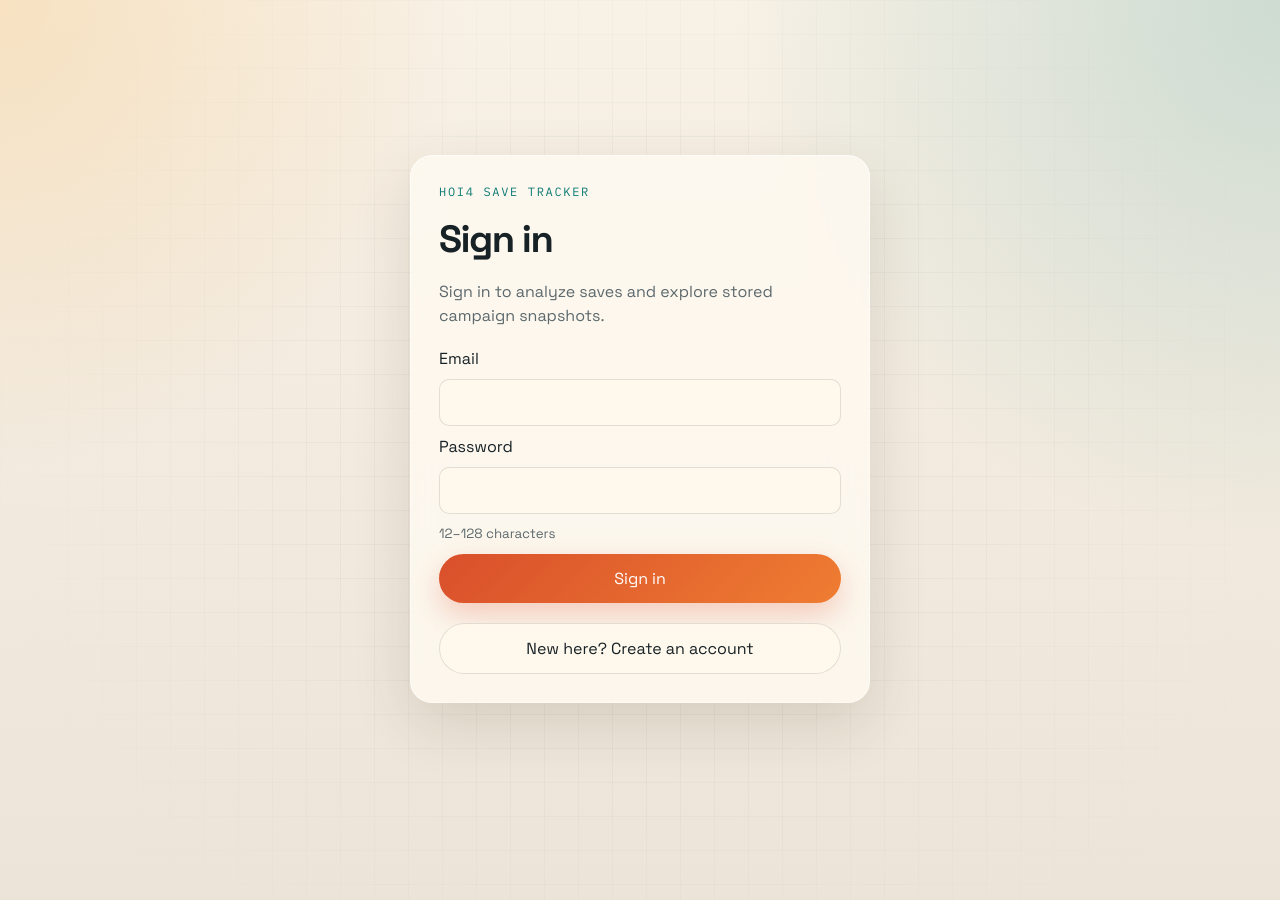
Test case: alpha admission and retry guidance › en signup denial is invitation guidance, not CSRF failure or a secret
Click the button "New here? Create an account" at (640, 649), box [439,623,841,674]
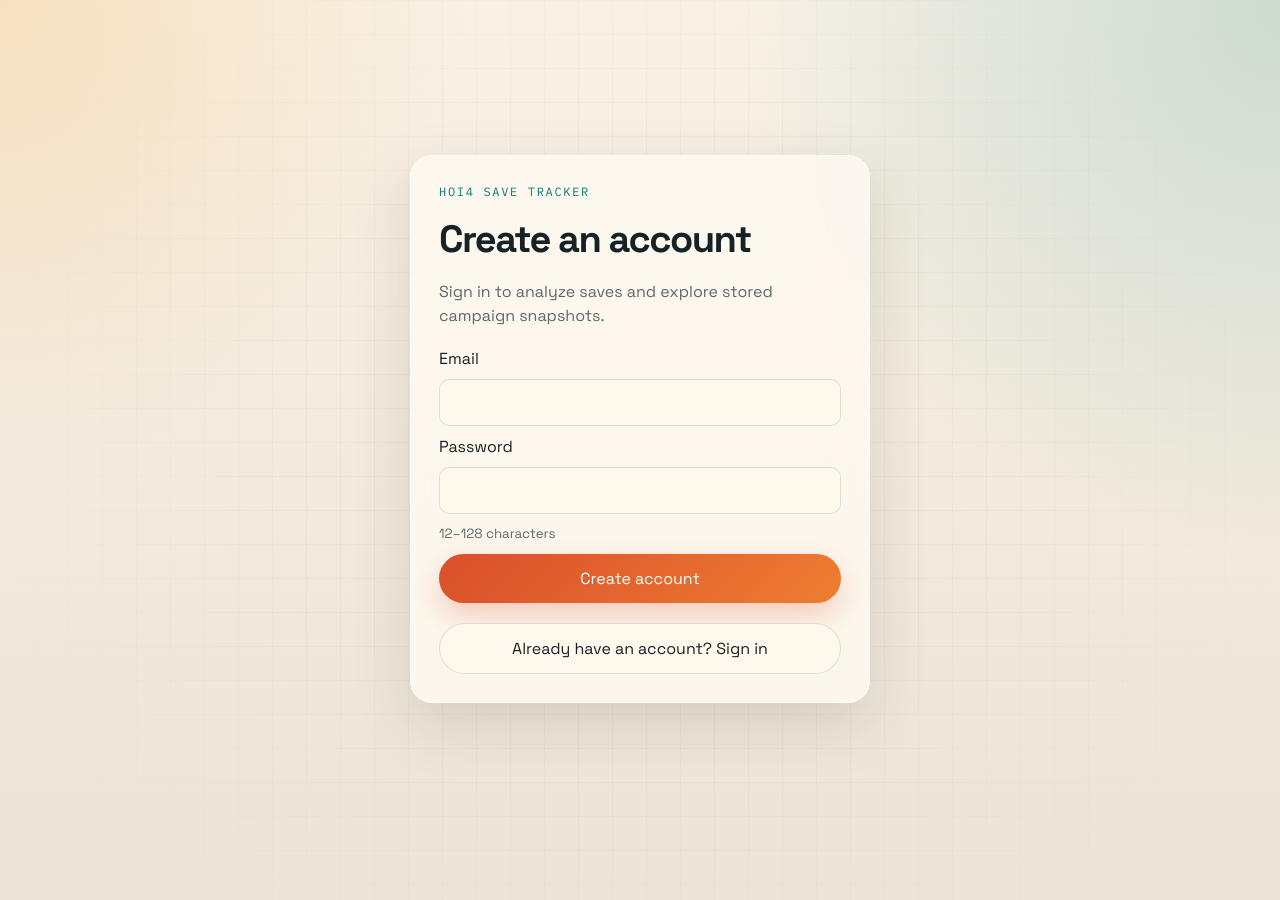
Type "invited@example.invalid" into the field named "email" at (640, 403), box [439,379,841,426]
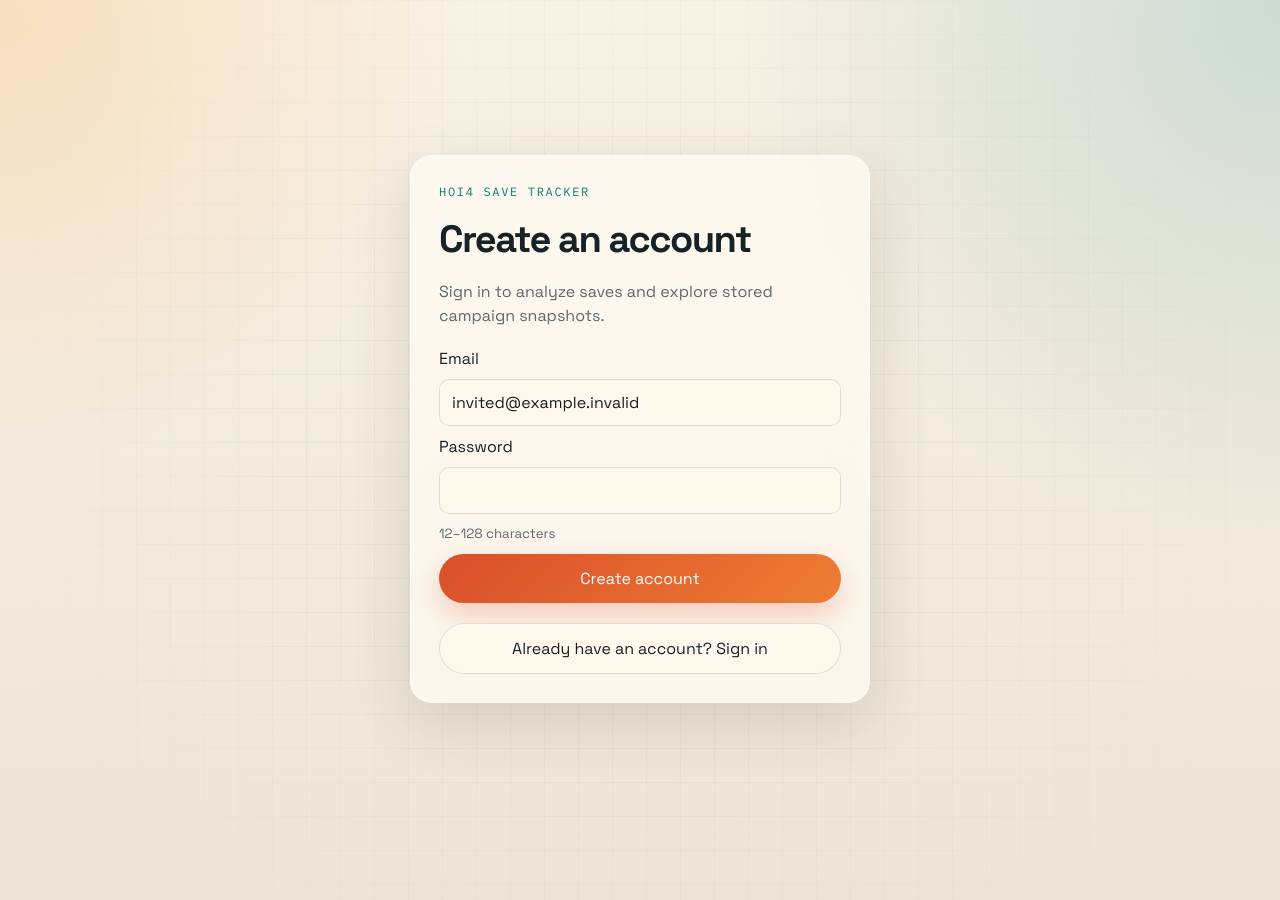
Type "valid secret password" into the password field named "password" at (640, 491), box [439,467,841,514]
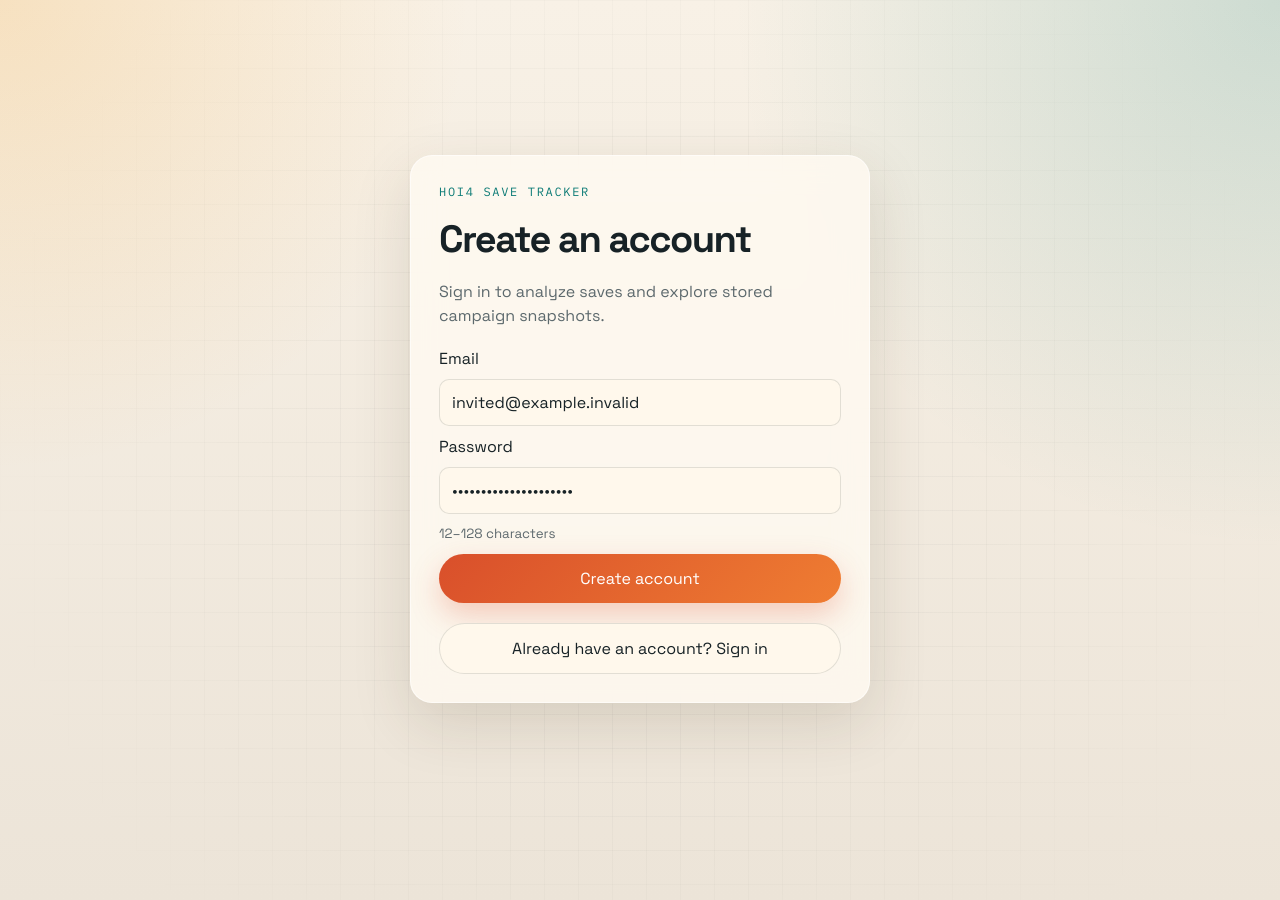
Submit the form, box [439,348,841,603]
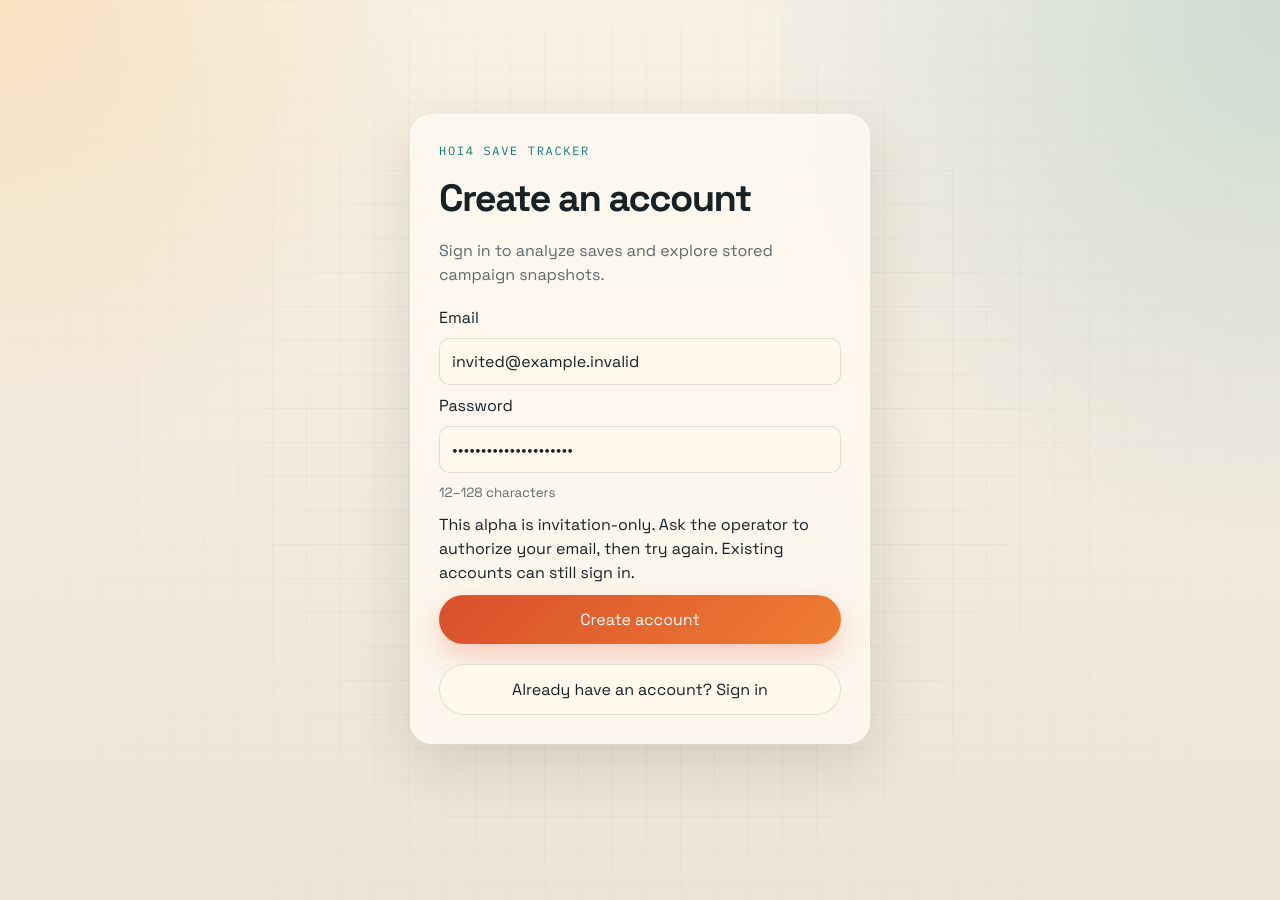
Expected: the message shows "This alpha is invitation-only. Ask the operator to authorize your email, then try again. Existing accounts can still sign in.", [439,514,809,583]
